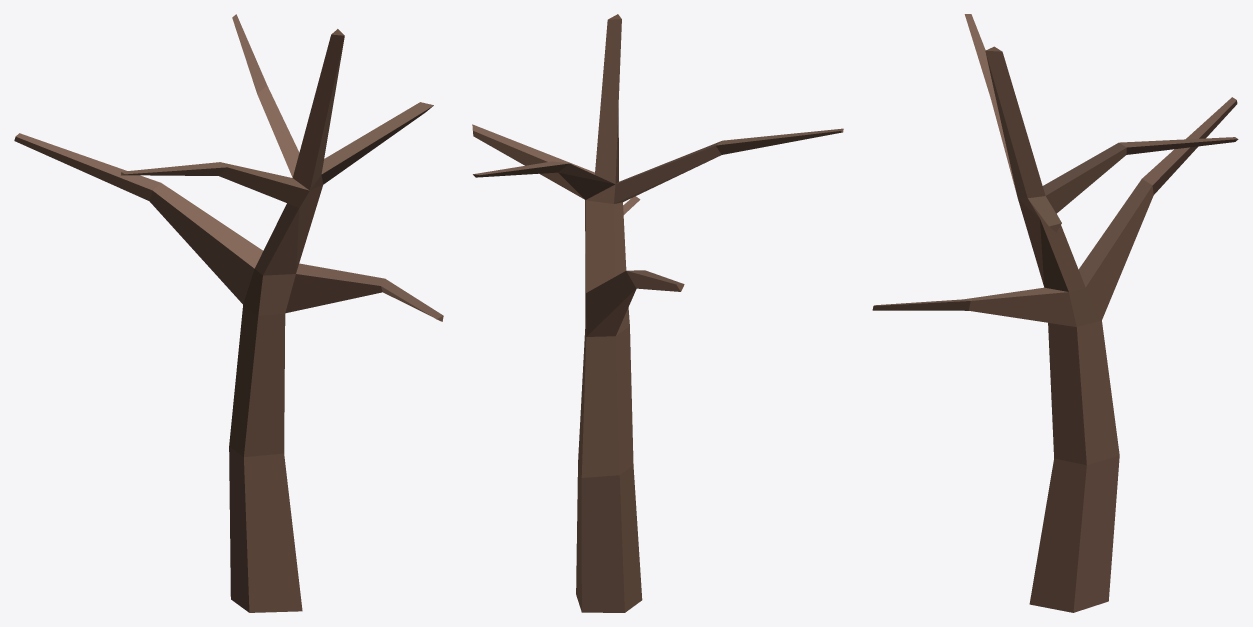
The model's file is TreeAutumn7.fbx.
3 views of the same model, side by side, from view 1: azimuth 30°, elevation 25°; view 2: azimuth 150°, elevation 25°; view 3: azimuth 270°, elevation 25° (orthographic). The views are drawn at different scales.
Parts seen in each view (by area): view 1: TreeAutumn7; view 2: TreeAutumn7; view 3: TreeAutumn7.
Boxes of the visible parts, x1,y1,x2,y2 form: TreeAutumn7: (14,14,443,612); TreeAutumn7: (472,14,843,612); TreeAutumn7: (872,14,1238,612).
Bounding box in the file's own units: 1.29 × 2.04 × 1.2.
